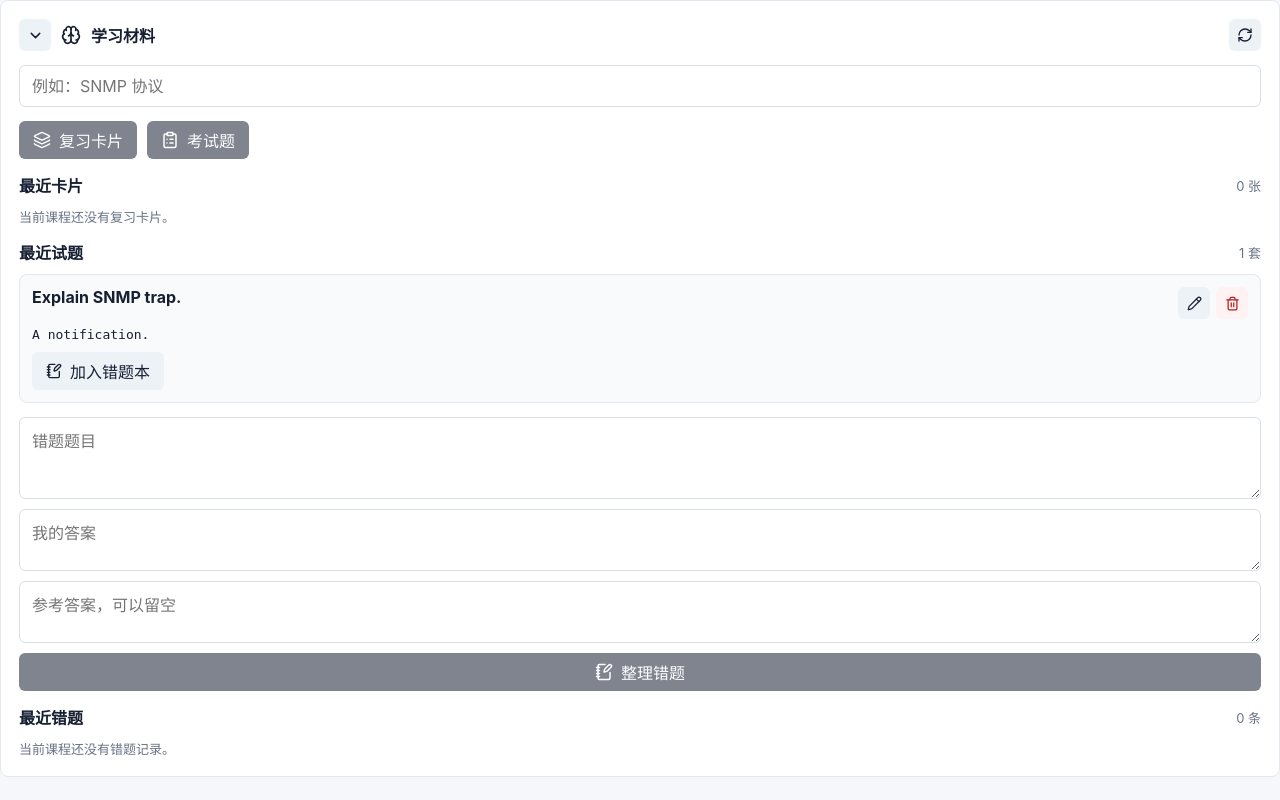
StudyToolsPanel › edits a generated question in place
Click the button titled "编辑试题" at coordinates (1194, 303), box [1178,287,1210,319]
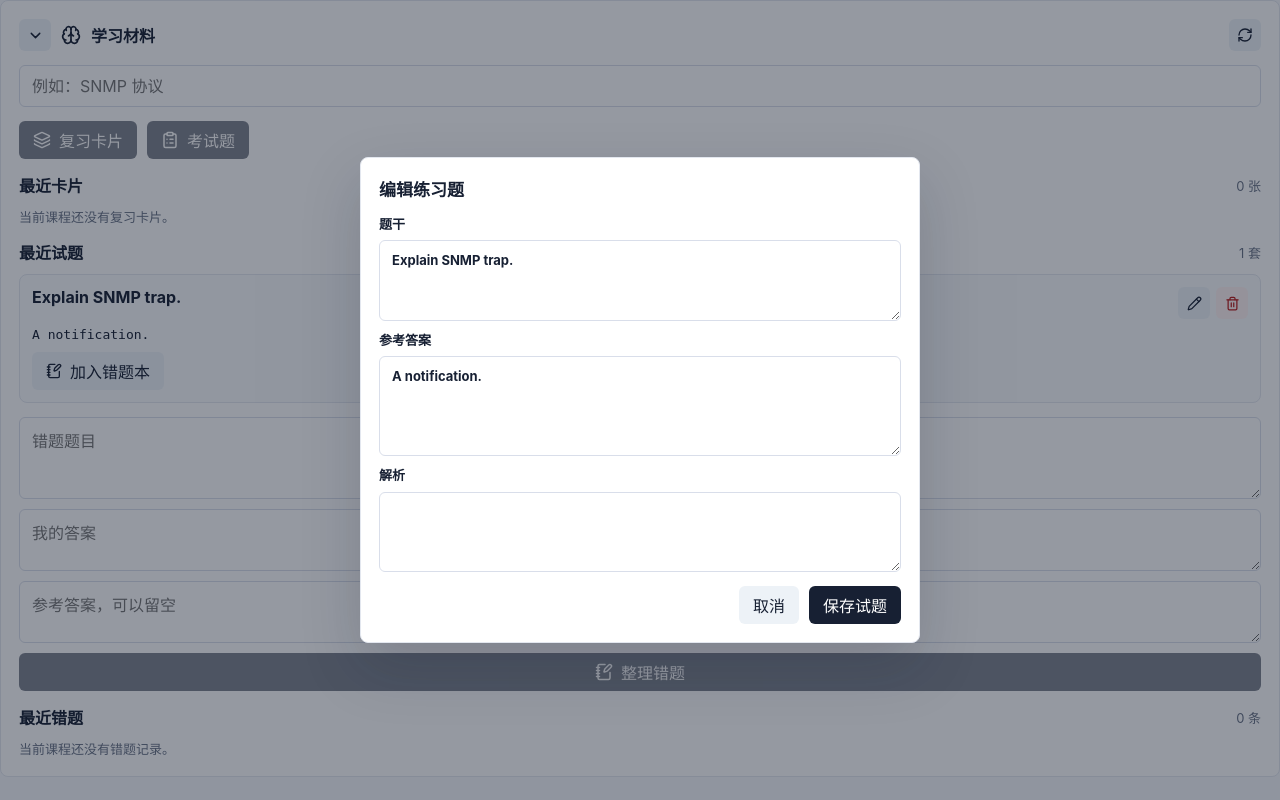
Replace the text in the text box with test id "question-prompt-input" with "Explain an SNMP trap." at coordinates (640, 281), box [379,240,901,321]
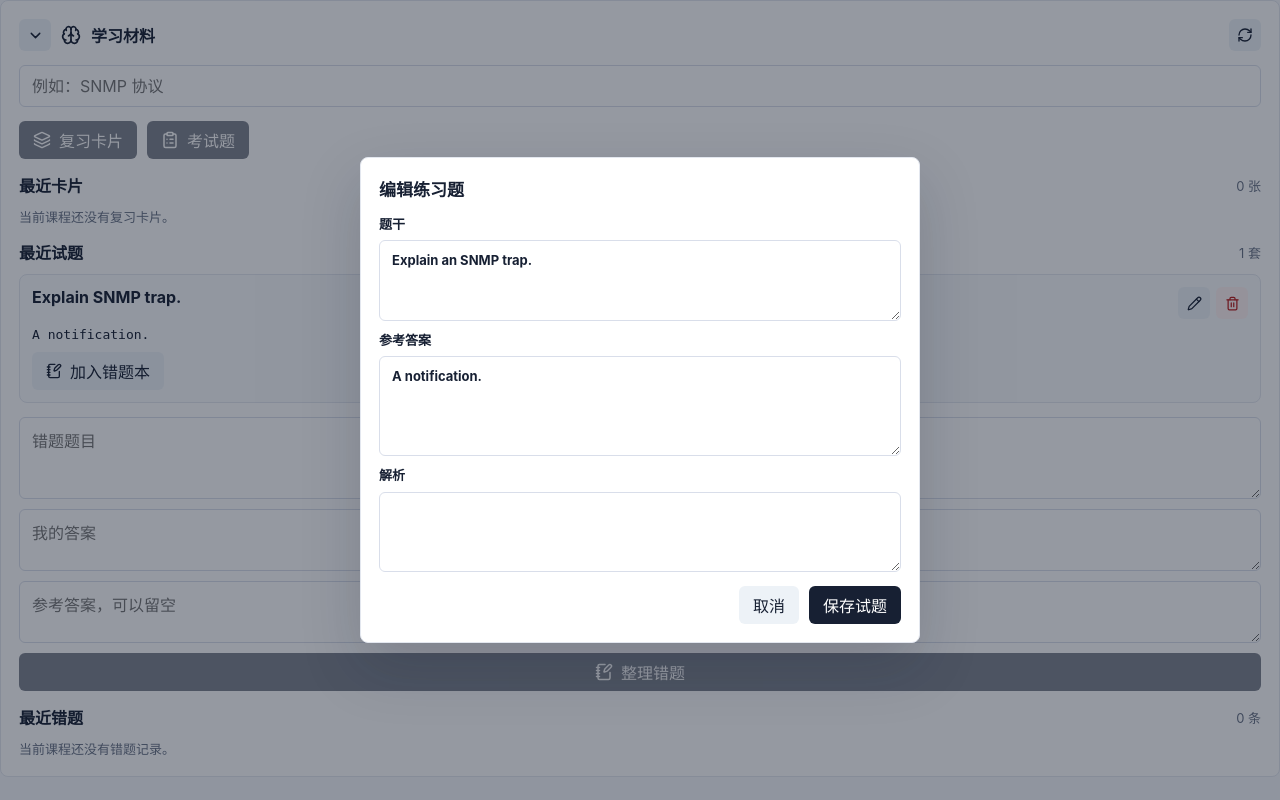
Replace the text in the text box with test id "question-answer-input" with "It is an event notification sent by a managed device." at coordinates (640, 406), box [379,356,901,456]
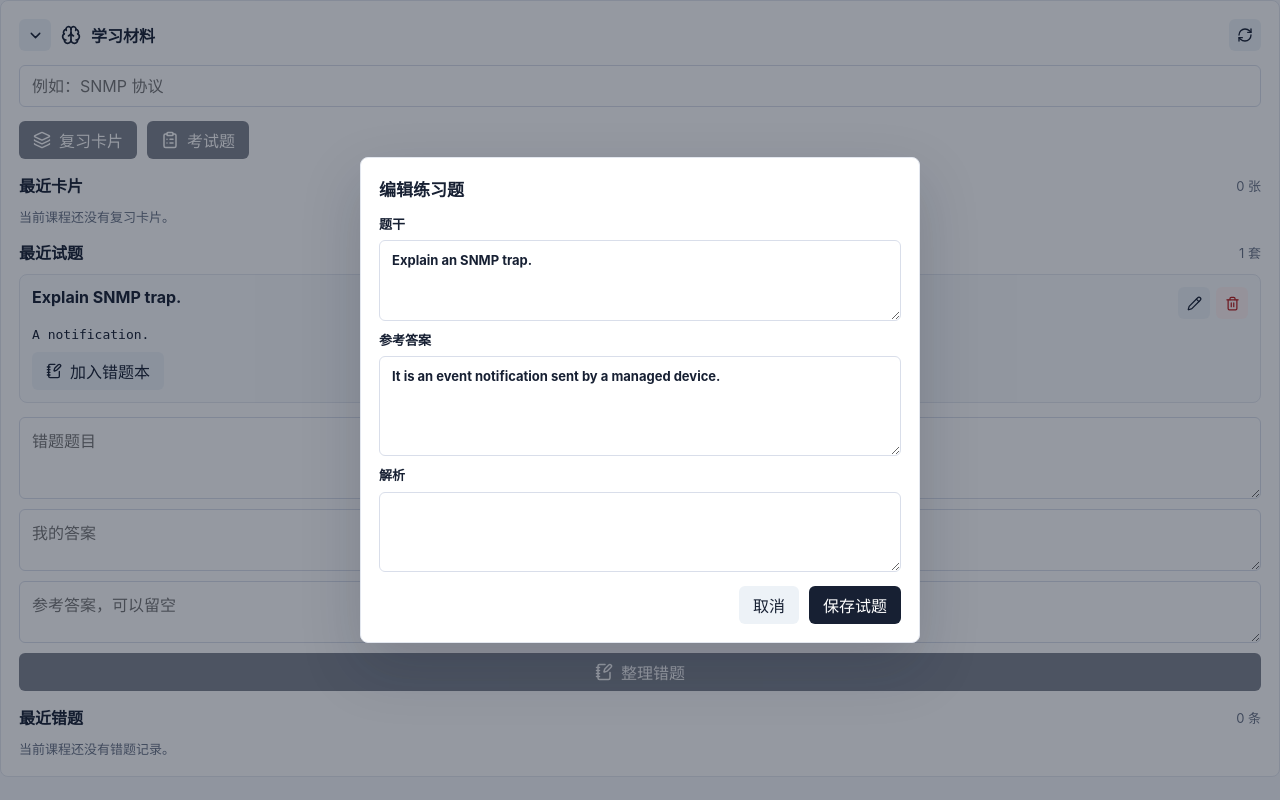
Type "Trap messages are device initiated." into the text box with test id "question-explanation-input" at coordinates (640, 532), box [379,492,901,572]
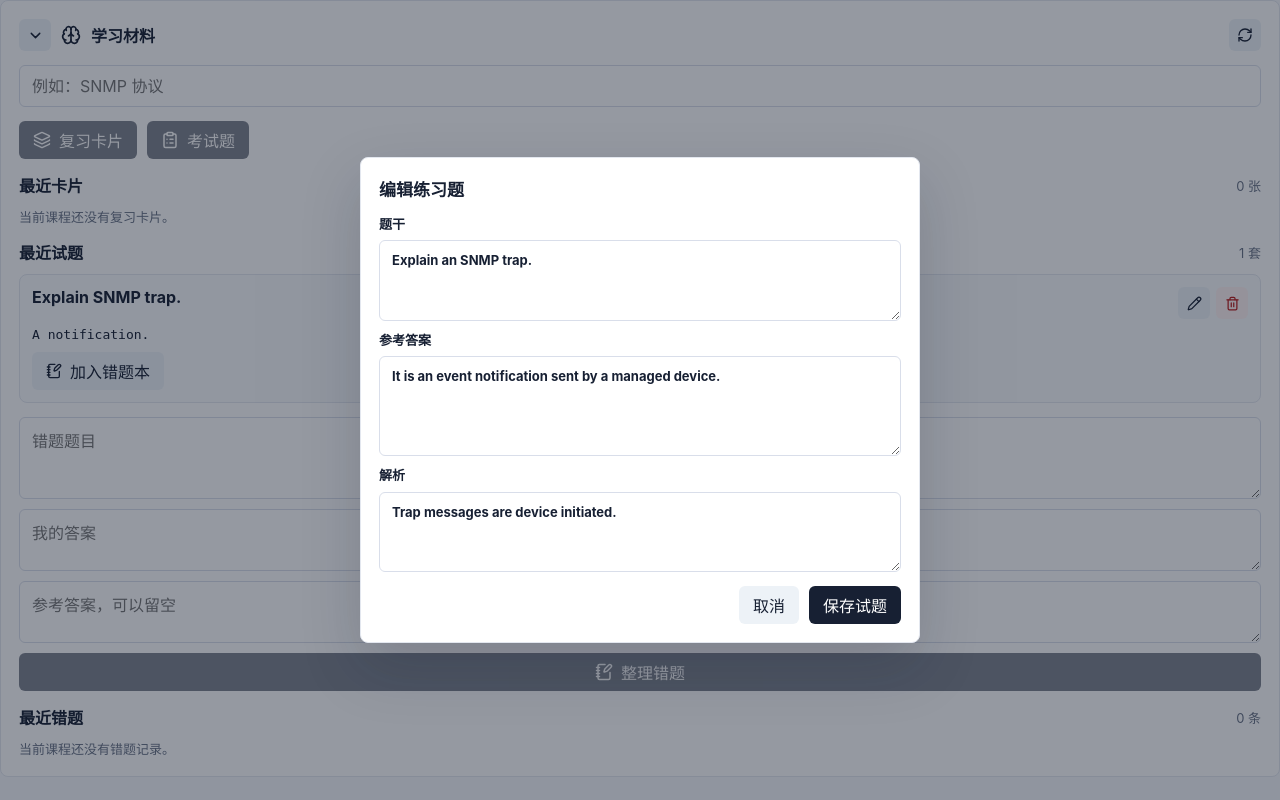
Click the button with test id "modal-confirm" at coordinates (855, 605), box [809,586,901,624]
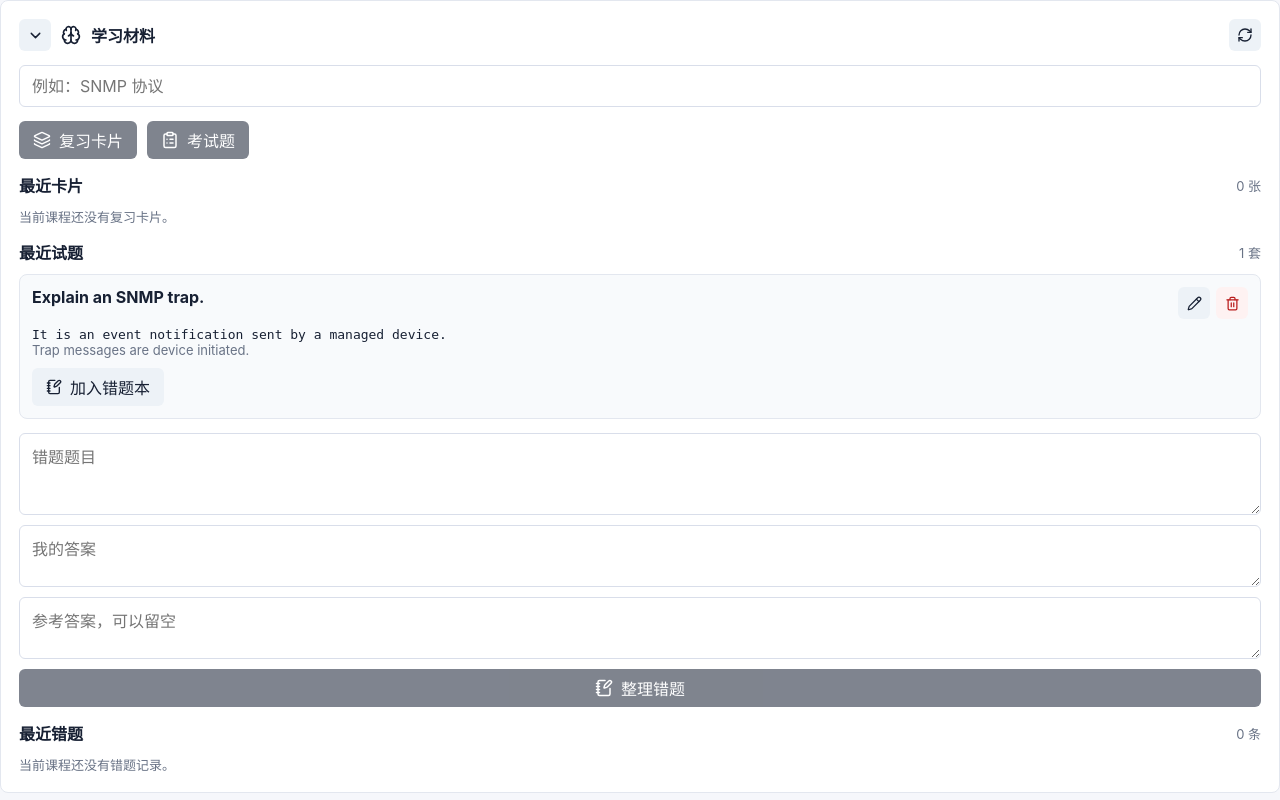
Expected: the text "Explain an SNMP trap." is shown, [32,287,204,307]
Expected: the text "It is an event notification sent by a managed device." is shown, [32,327,447,342]
Expected: the text "Trap messages are device initiated." is shown, [32,342,249,358]
